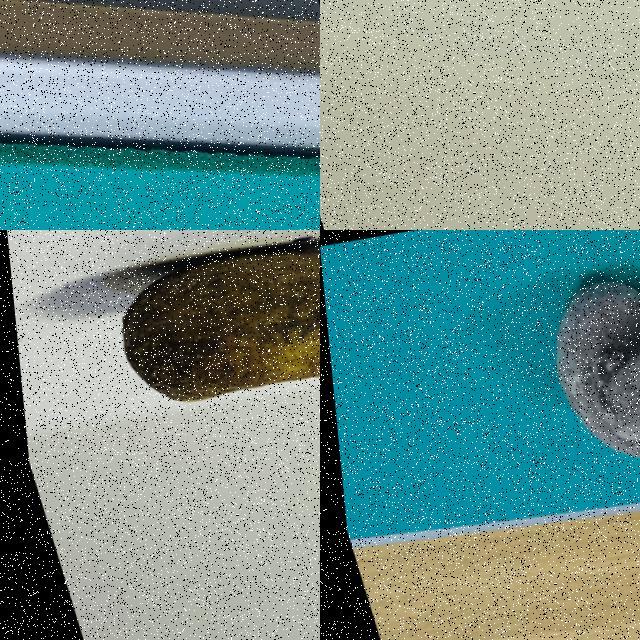Agglomerated_cocoabeans: (439, 230, 639, 503)
Fine_cocoabeans: (73, 230, 319, 458)
